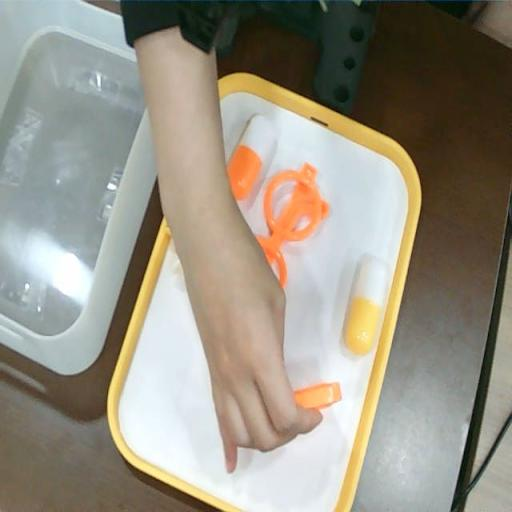hospital: (210, 273, 326, 471)
